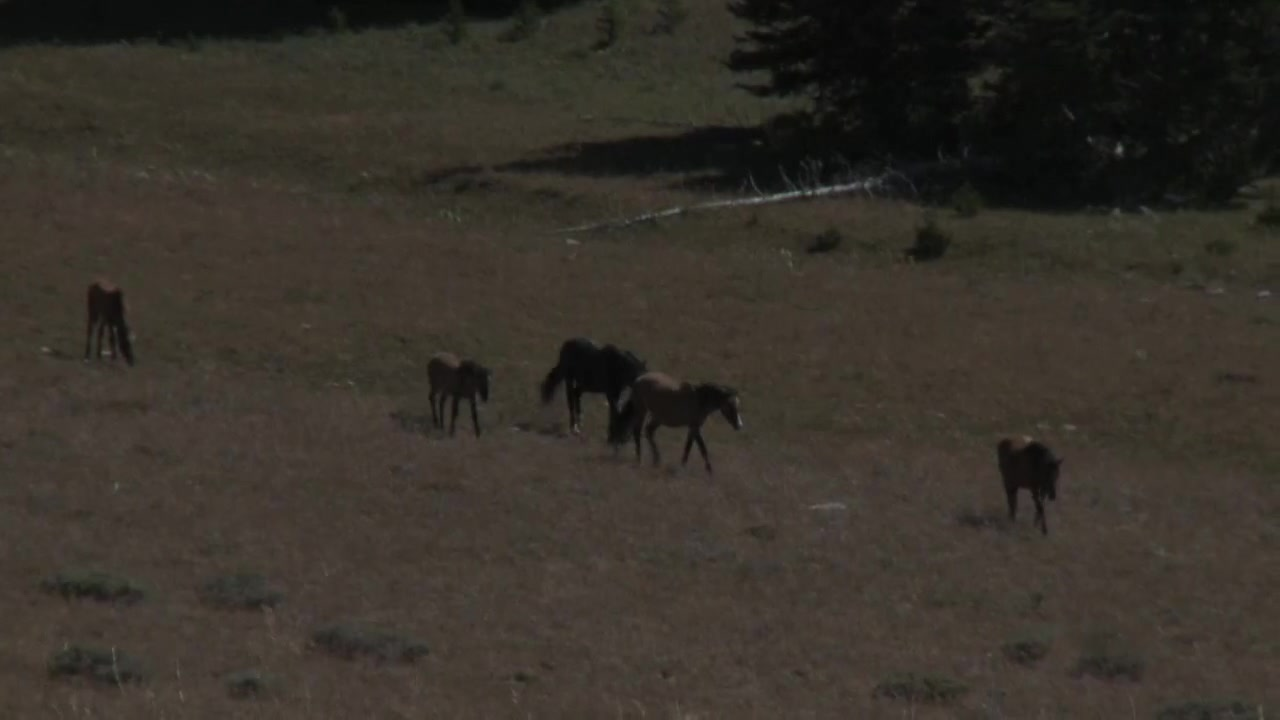horse: (614, 370, 747, 475), (539, 338, 650, 444), (417, 353, 498, 443), (994, 437, 1067, 534), (84, 277, 141, 367)
